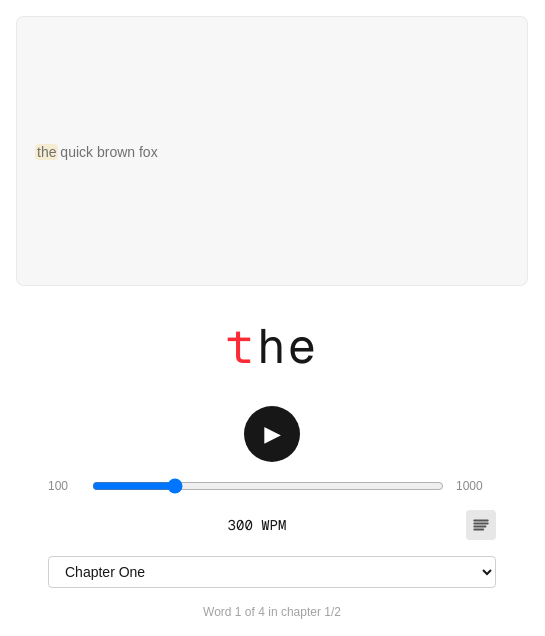
it: Reader › advances words when playing
Check: the element with test id "word-display" reads "the", box [225,310,319,382]
Click the button named "Play": [272, 434] box [244,406,300,462]
Wait 200 ms
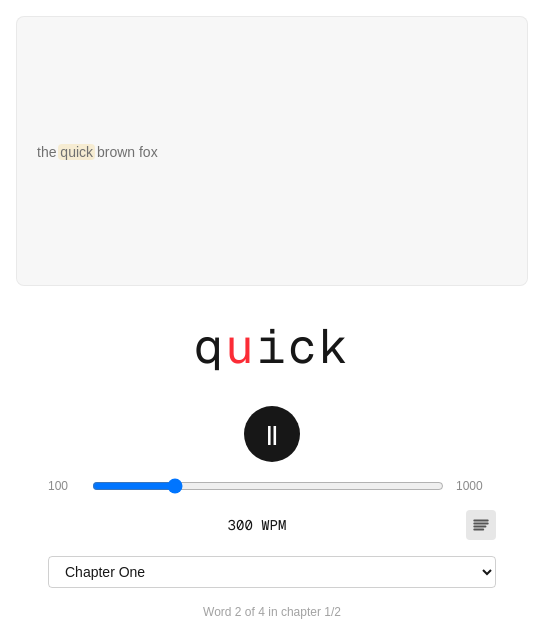
Check: the element with test id "word-display" reads "quick", box [194,310,350,382]
